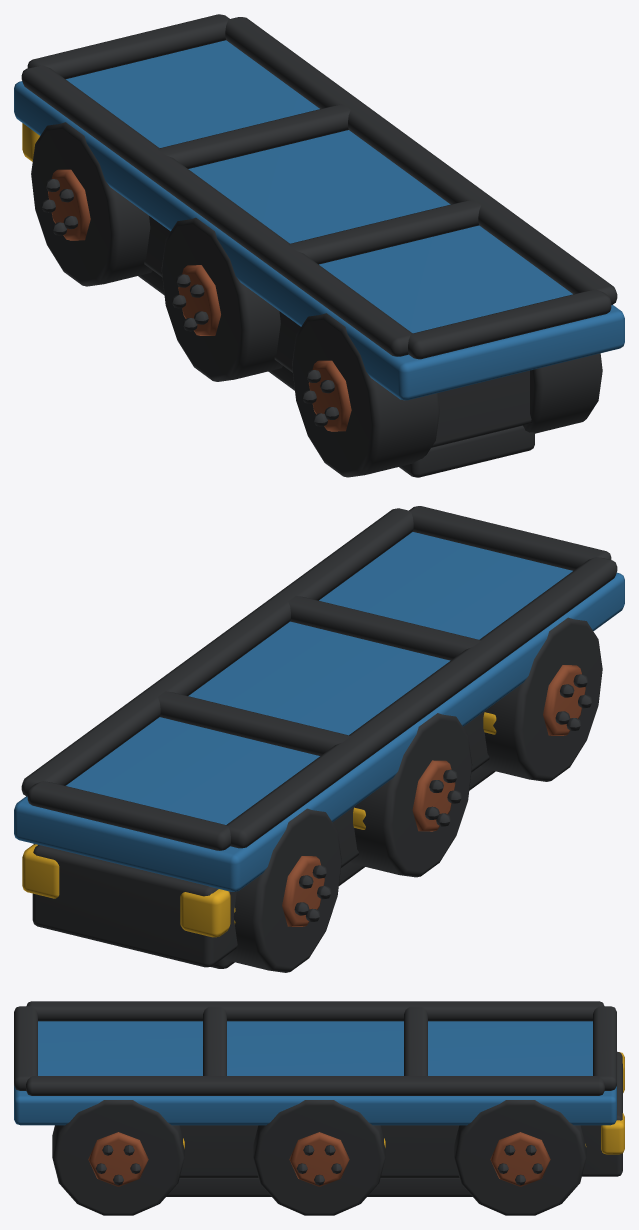
Rendered from chassis-1x3.glb.
The picture shows the model from 3 angles, top to bottom: view 1: azimuth 30°, elevation 25°; view 2: azimuth 150°, elevation 25°; view 3: azimuth 270°, elevation 25°; orthographic projection. The views are drawn at different scales.
Parts seen in each view (by area): view 1: rig-body, wheel_l0, wheel_l2, wheel_l1, wheel_r0; view 2: rig-body, wheel_l0, wheel_l1, wheel_l2; view 3: rig-body, wheel_r0, wheel_r1, wheel_r2.
Part boxes in pixels (x1,y1,x2,y2): rig-body: (14, 14, 624, 477); wheel_l0: (292, 313, 439, 477); wheel_l2: (31, 122, 152, 286); wheel_l1: (161, 217, 282, 381); wheel_r0: (523, 353, 602, 433); rig-body: (14, 506, 624, 968); wheel_l0: (481, 617, 602, 781); wheel_l1: (350, 713, 472, 877); wheel_l2: (222, 808, 341, 972); rig-body: (14, 1001, 624, 1196); wheel_r0: (52, 1100, 184, 1215); wheel_r1: (253, 1100, 385, 1215); wheel_r2: (454, 1100, 586, 1215).
Bounding box in the file's own units: 1.18 × 0.74 × 3.04.
